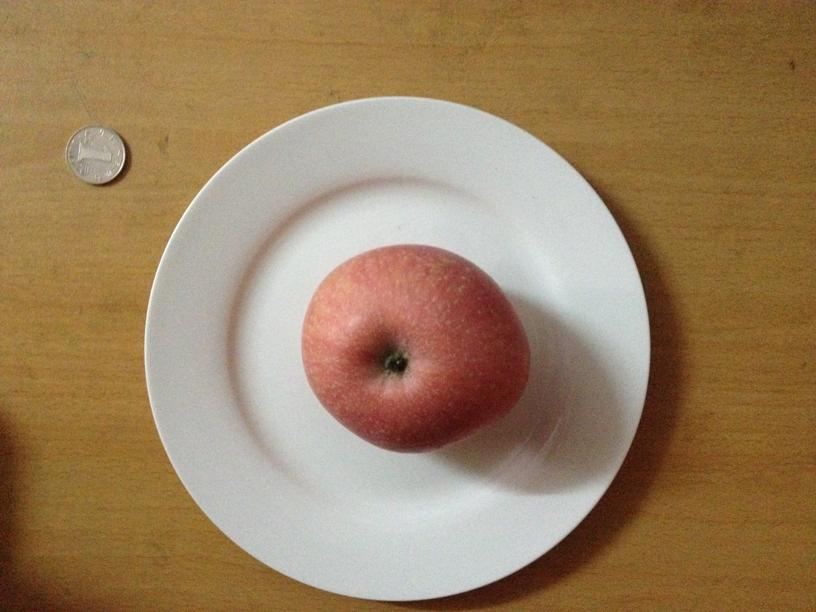apple: (299, 243, 533, 454)
coin: (63, 125, 127, 186)
